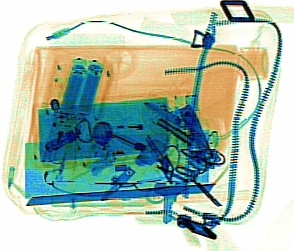lighter: (91, 115, 163, 136)
powerbank: (50, 55, 115, 132)
